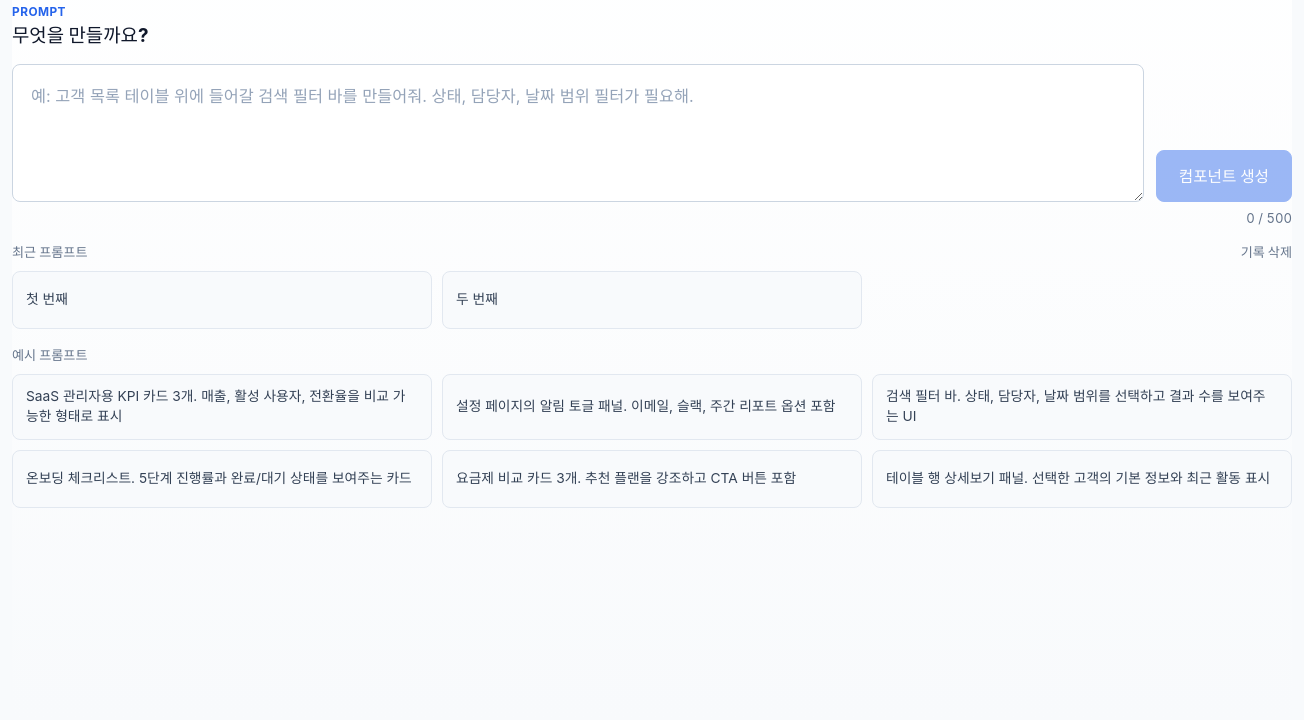
Test: PromptInput › 프롬프트 히스토리 › 히스토리 항목을 보여주고 클릭하면 입력창에 채운다
Click the button "두 번째" at (477, 299), box [442,271,862,329]
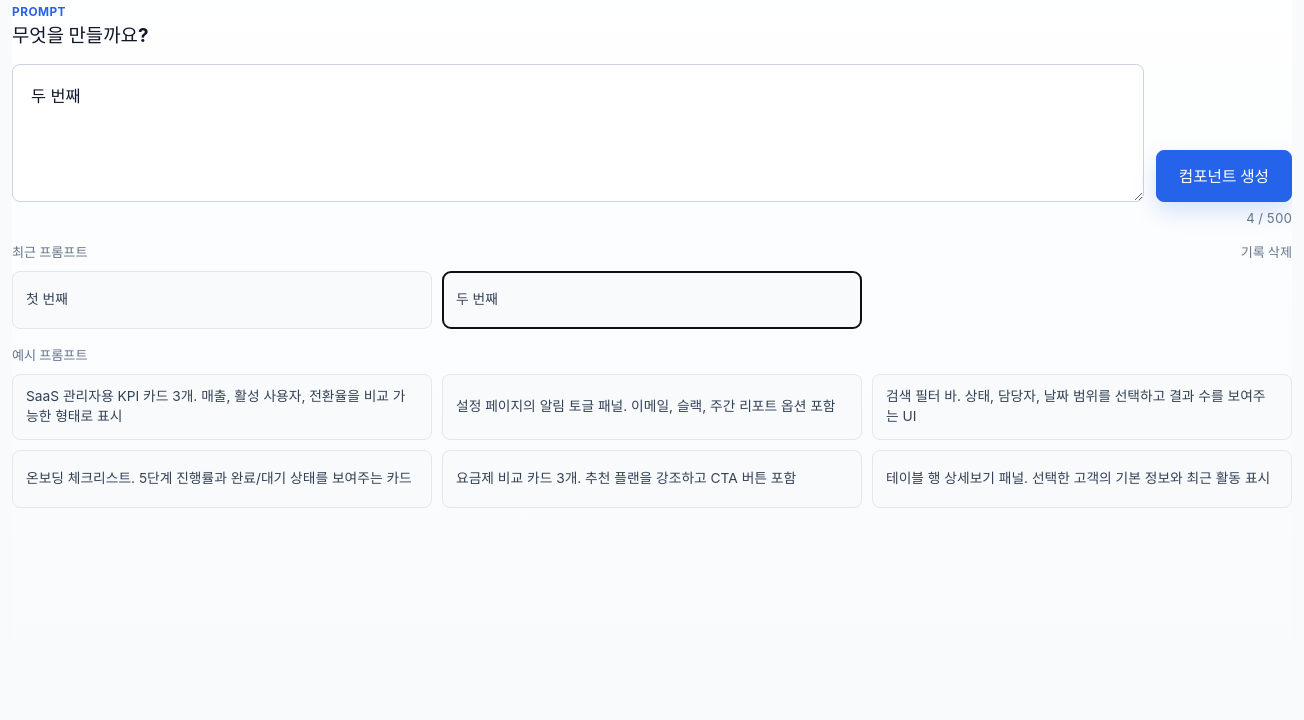
expect the text box holds "두 번째": met, box [12,64,1144,202]
